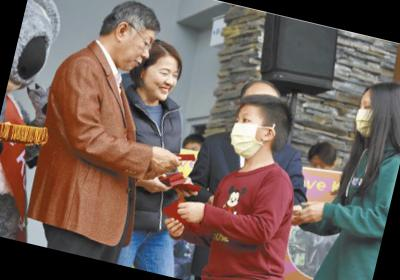with_mask: (225, 109, 270, 162), (351, 98, 380, 140)
without_mask: (115, 29, 157, 77), (141, 61, 182, 104)
